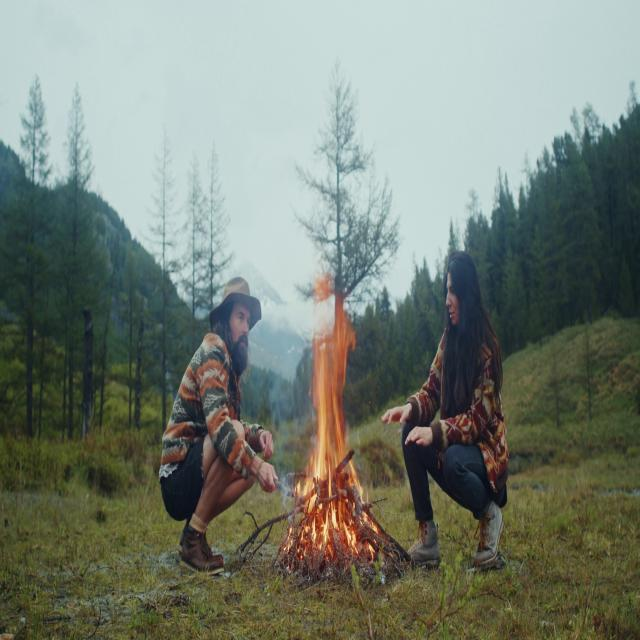Fire: (288, 300, 374, 549)
